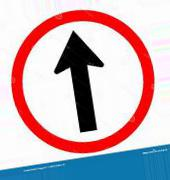forward: (9, 9, 155, 153)
